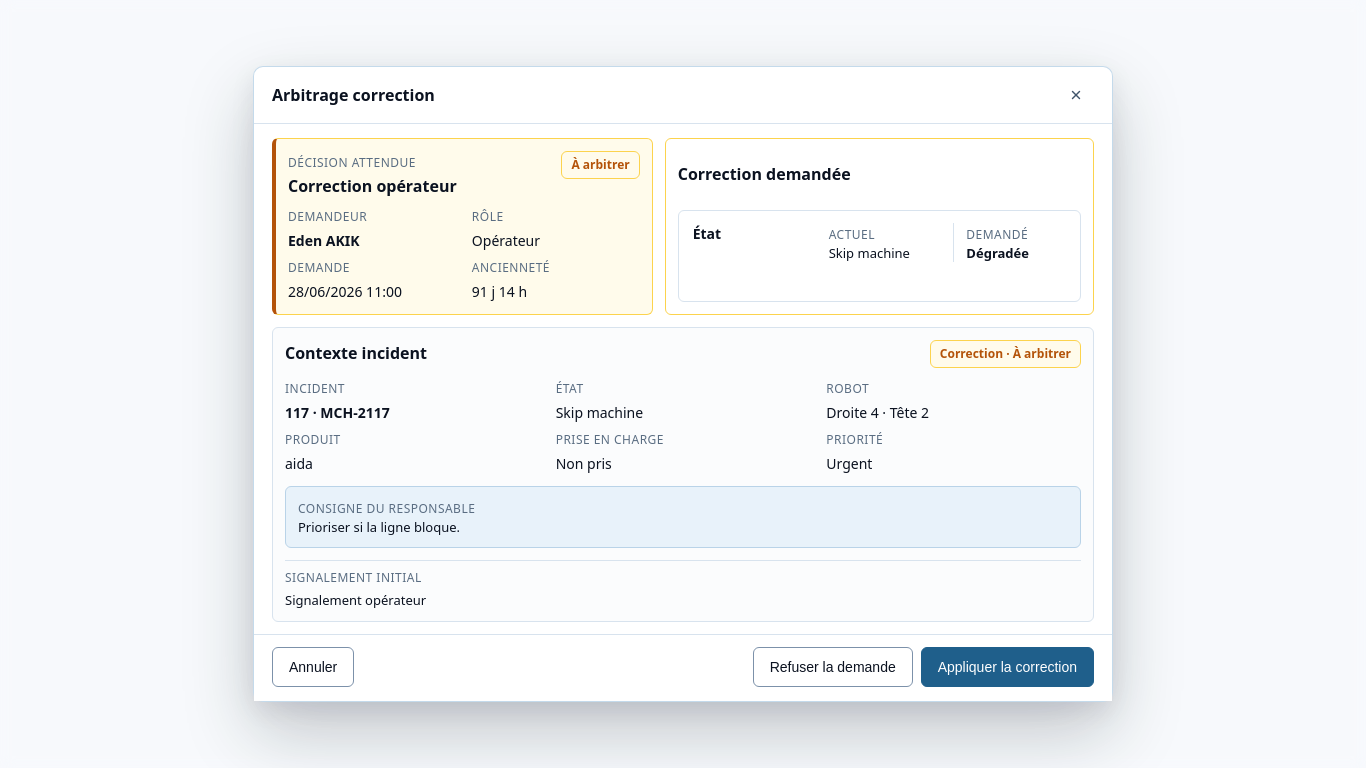
Test: ReviewIncidentRequestModal › n’affiche le champ « Motif du refus » qu’après le choix de refuser
Expected: the field labelled "Motif du refus" is not shown
Click the button "Refuser la demande" at [833, 667], box x1=753 y1=647 x2=913 y2=687
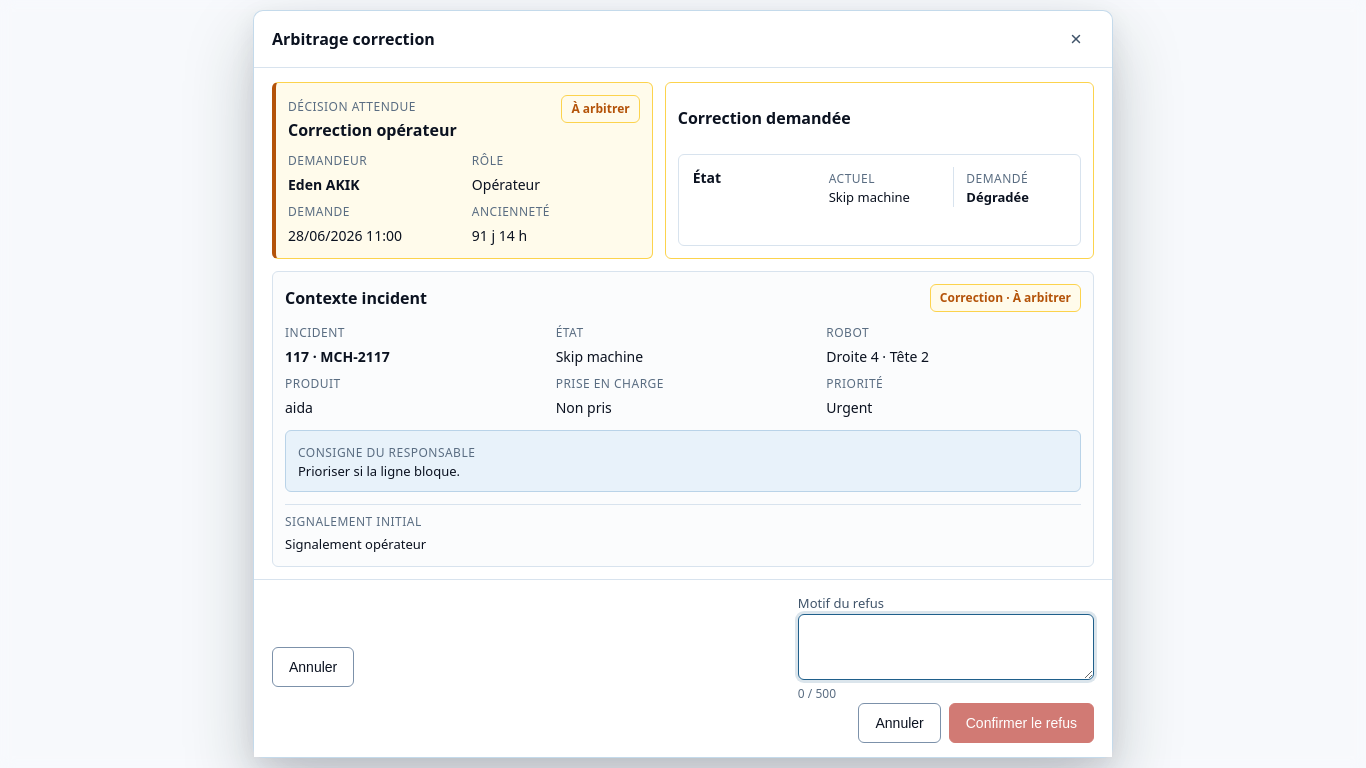
Expected: the text box labelled "Motif du refus" is shown, x1=798 y1=614 x2=1094 y2=680
Expected: the button "Confirmer le refus" is shown, x1=949 y1=703 x2=1094 y2=743
